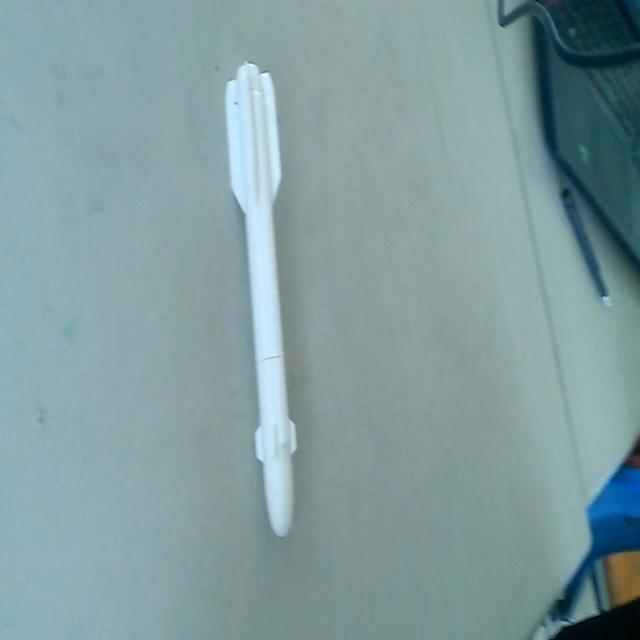Rocket: (225, 64, 301, 543)
